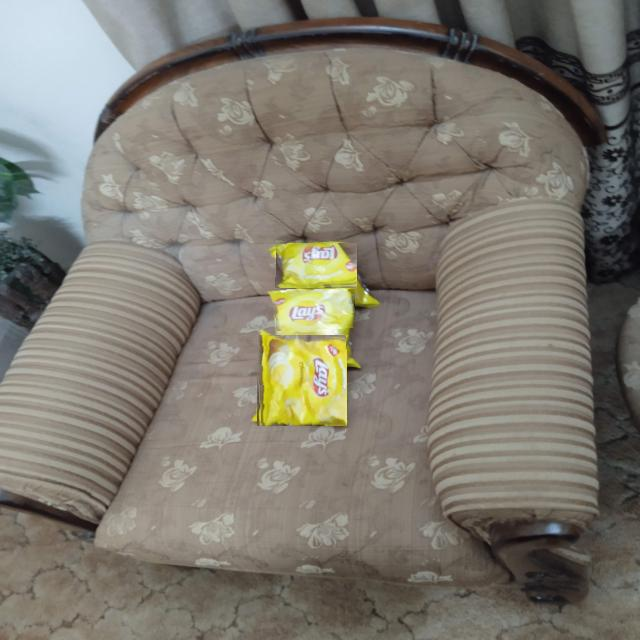Plastic: (256, 336, 347, 426), (275, 243, 357, 288), (273, 289, 355, 331)
